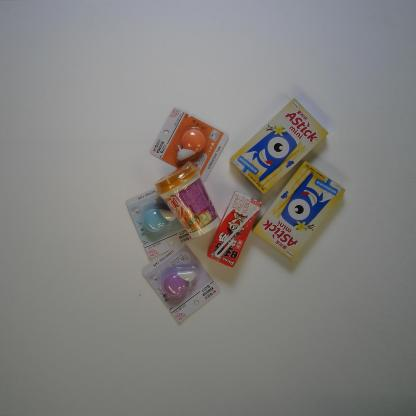Dessert: (229, 98, 329, 195), (251, 160, 347, 261)
Instant Drink: (154, 161, 222, 239)
Milk: (207, 190, 263, 268)
Stationery: (141, 243, 220, 324), (150, 107, 230, 183), (125, 186, 194, 259)
